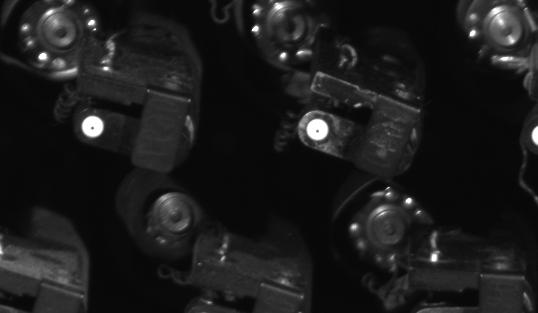fiber: (76, 111, 112, 144), (303, 117, 333, 145)
